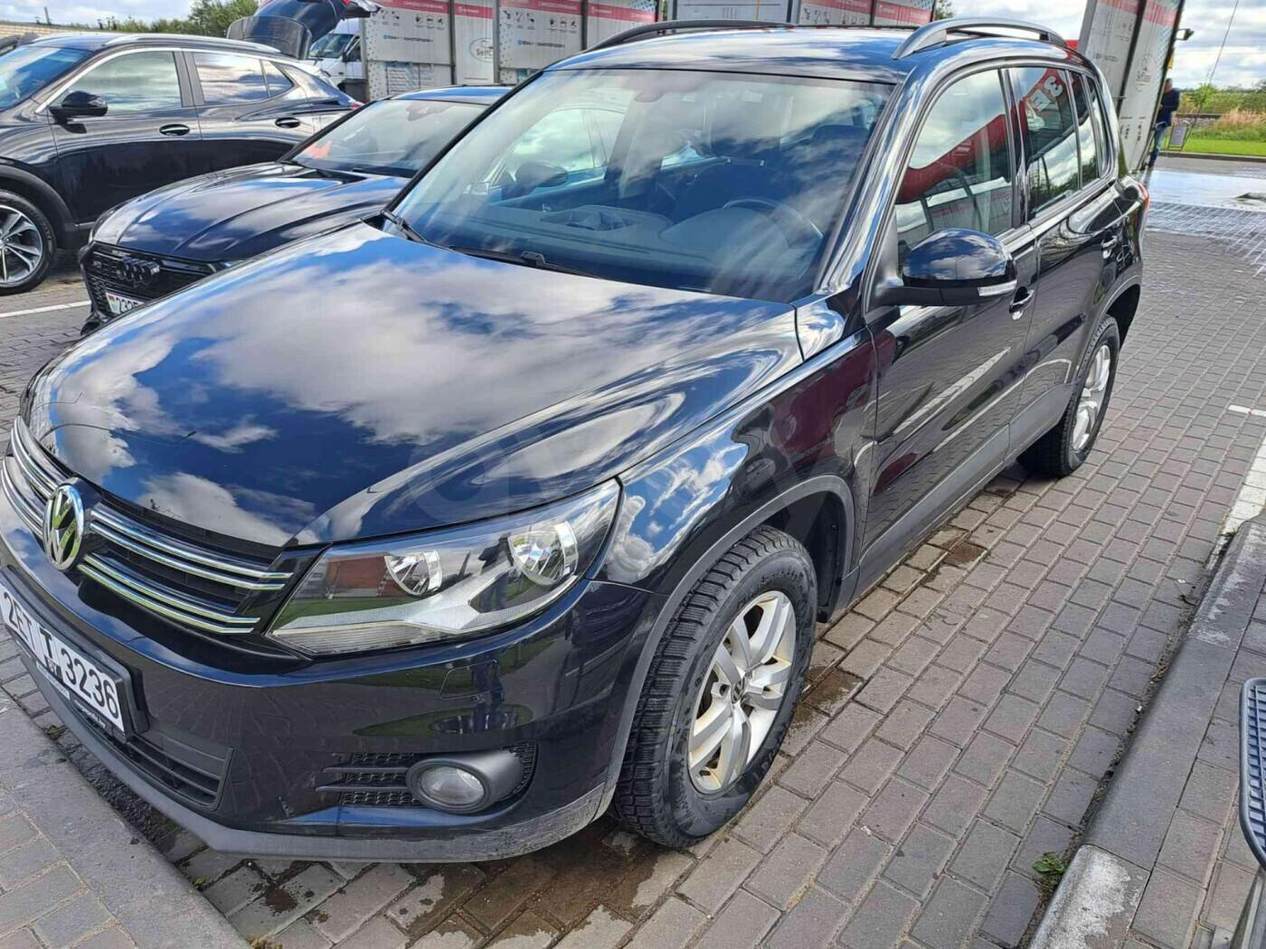Tiguan_2011-2018: (0, 19, 1145, 870)
